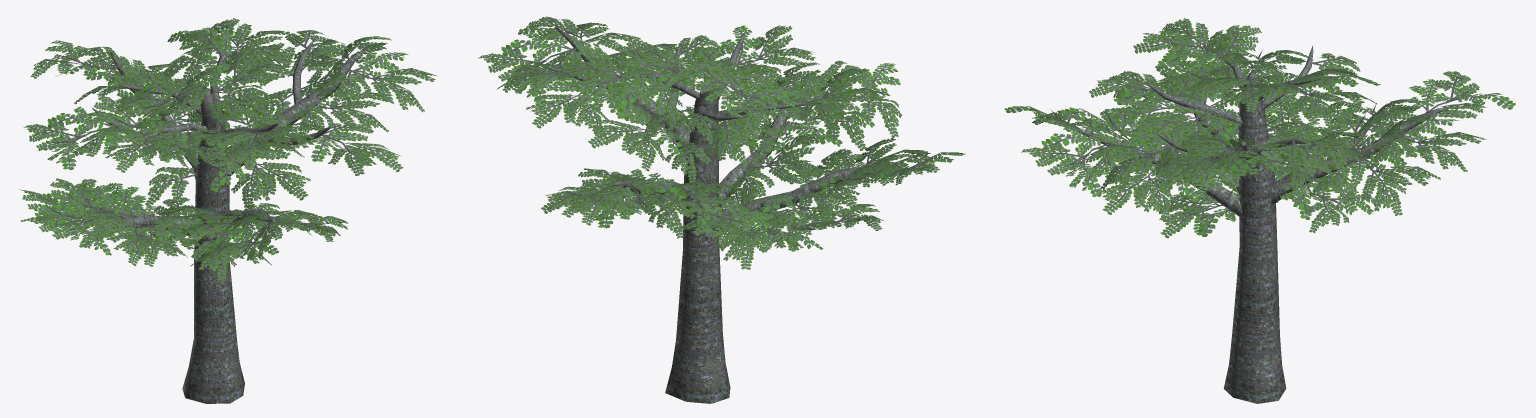
File: Tree_03_03.obj
The picture shows the model from 3 angles, left to right: view 1: azimuth 30°, elevation 25°; view 2: azimuth 150°, elevation 25°; view 3: azimuth 270°, elevation 25°; orthographic projection. The views are drawn at different scales.
Parts seen in each view (by area): view 1: polySurface1588; view 2: polySurface1588; view 3: polySurface1588.
Boxes of the visible parts, x1,y1,x2,y2 form: polySurface1588: (19,18,437,403); polySurface1588: (478,16,965,403); polySurface1588: (1004,18,1515,403).
Bounding box in the file's own units: 210 × 155 × 219.
1 material, 1 textured.
